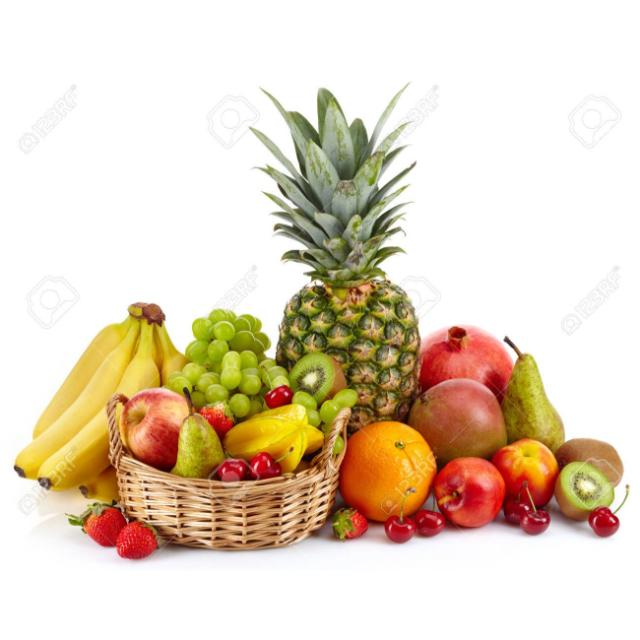organic: (15, 79, 634, 560)
